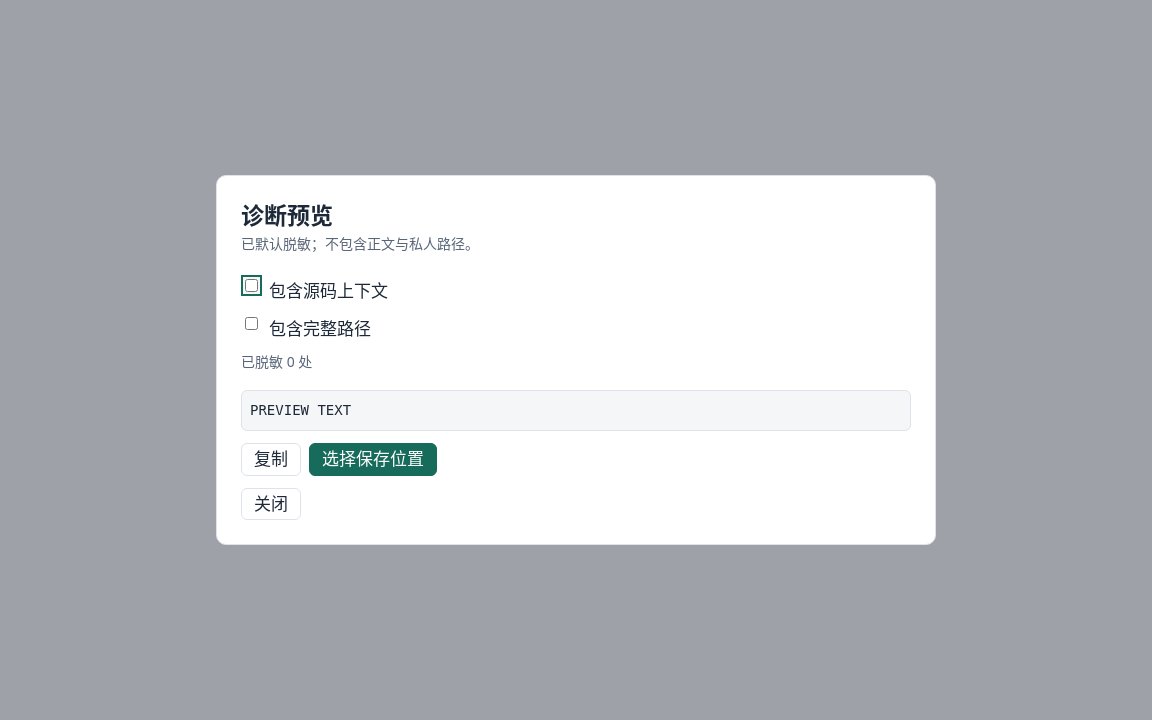
Test case: ExportPreviewDialog › keeps the preview with the failure message when the write fails
This screenshot has width=1152, height=720.
Check: the text "PREVIEW TEXT" is shown, box [241,390,911,431]
Click the button "选择保存位置": click(373, 460) [309,443,437,476]
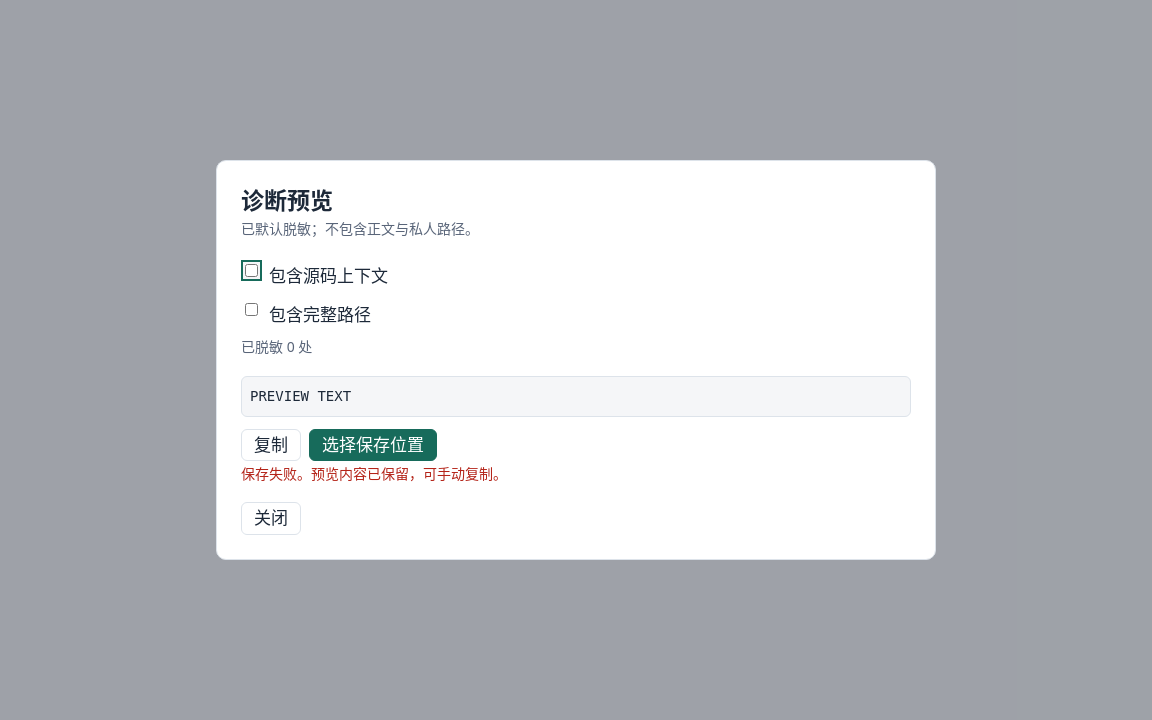
Check: the text "PREVIEW TEXT" is shown, box [241,376,911,417]
Check: the text "保存失败。预览内容已保留，可手动复制。" is shown, box [241,464,507,483]
